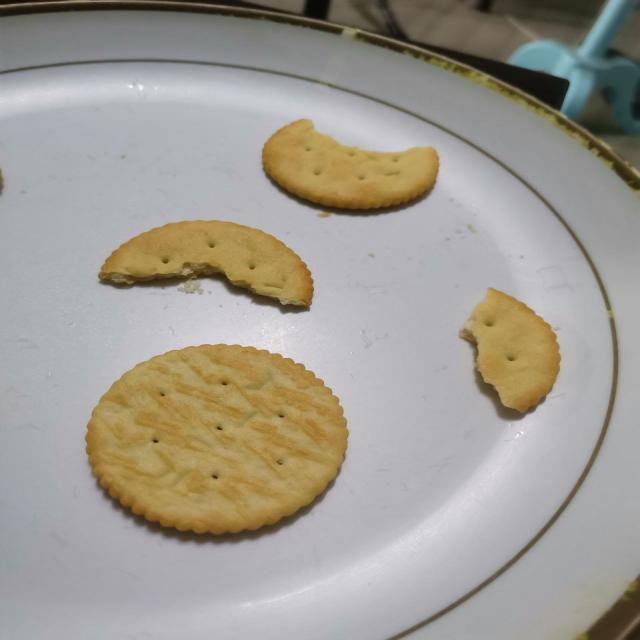broken biscuit: (96, 217, 314, 309), (434, 279, 566, 425), (260, 117, 441, 211)
intact biscuit: (83, 342, 350, 536)
